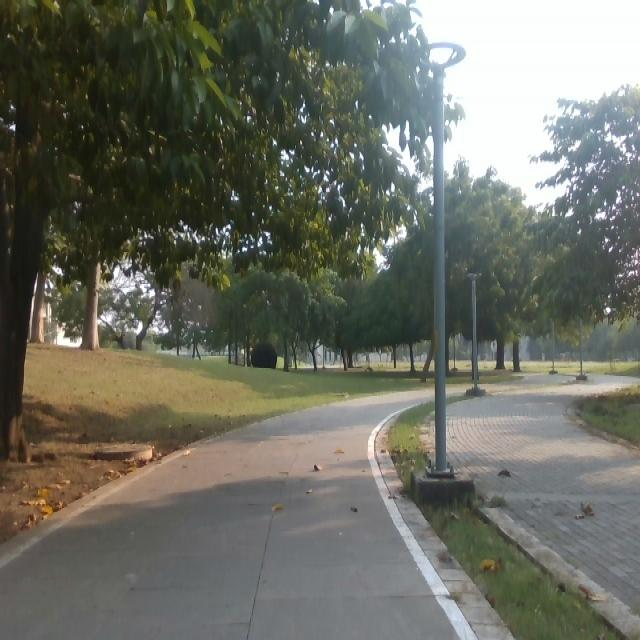lane: (0, 386, 469, 640)
